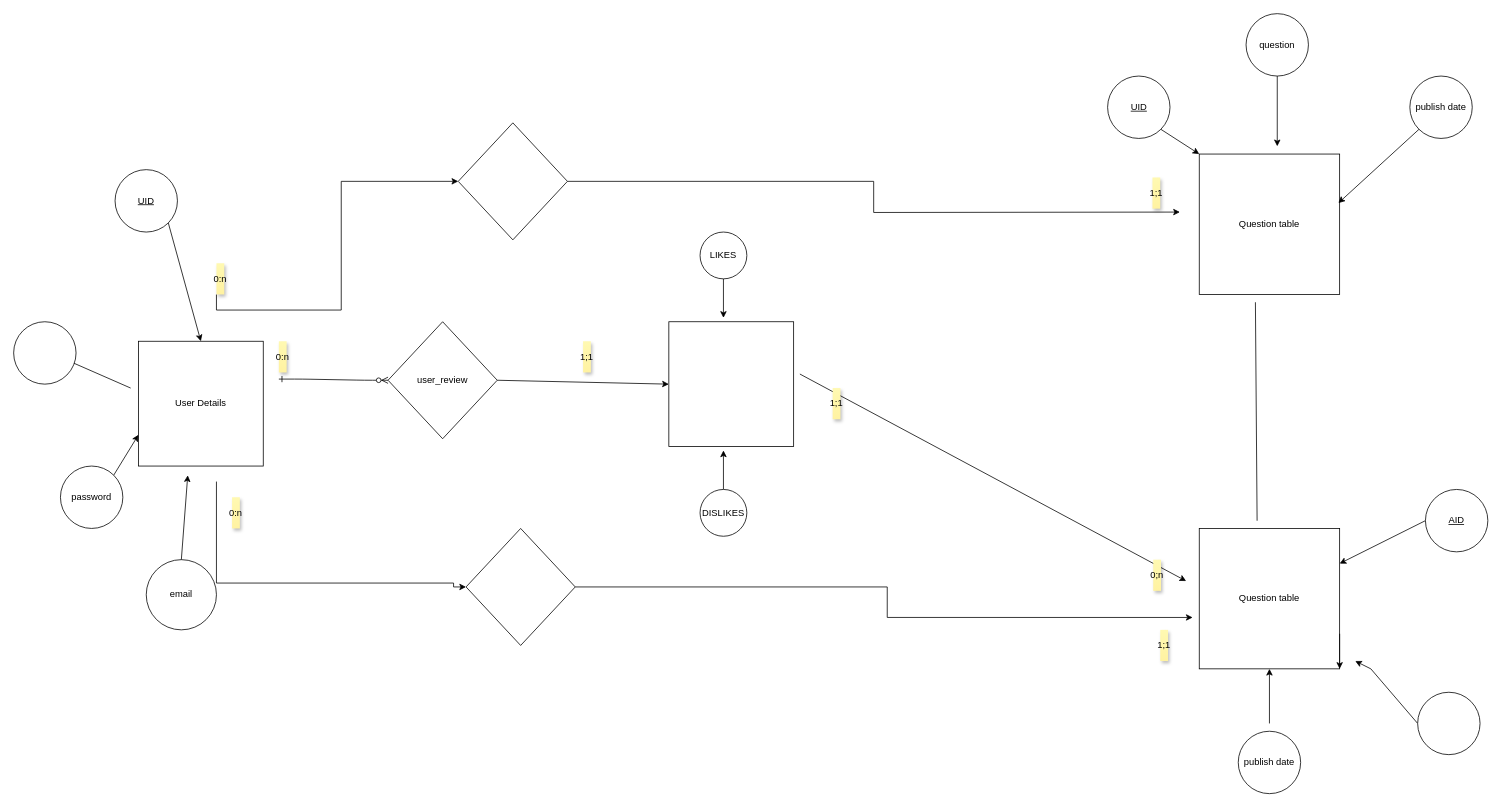
The diagram is 1502 pixels wide and 807 high, and some of its shapes have lost their labels. Here are the shapes that lost their labels. From the top down, the centre of each, then its label:
At [512,181]: "User question".
At [44,352]: "username".
At [731,384]: "Review".
At [520,586]: "user_answer".
At [1448,723]: "answer".
